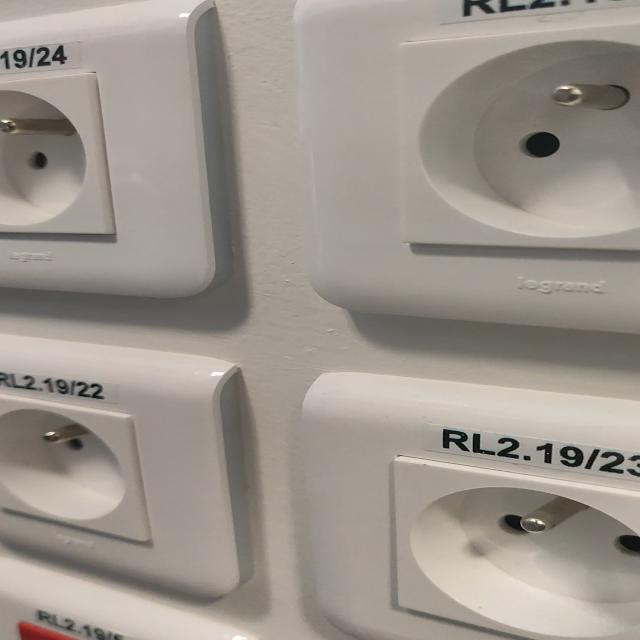house plug: (398, 23, 640, 252), (396, 454, 640, 640), (0, 393, 156, 542), (0, 72, 116, 234)
